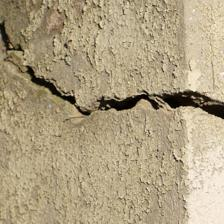Crack: (10, 108, 83, 214), (35, 103, 134, 149)
